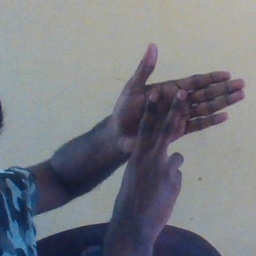N: (110, 40, 248, 187)
